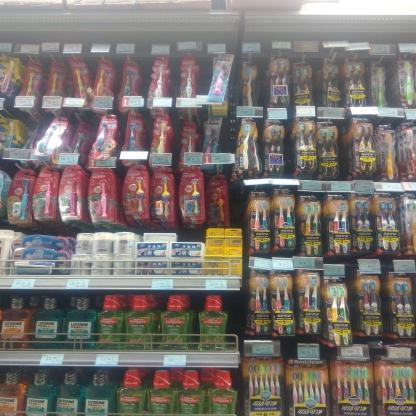Void: (180, 226, 206, 239)
